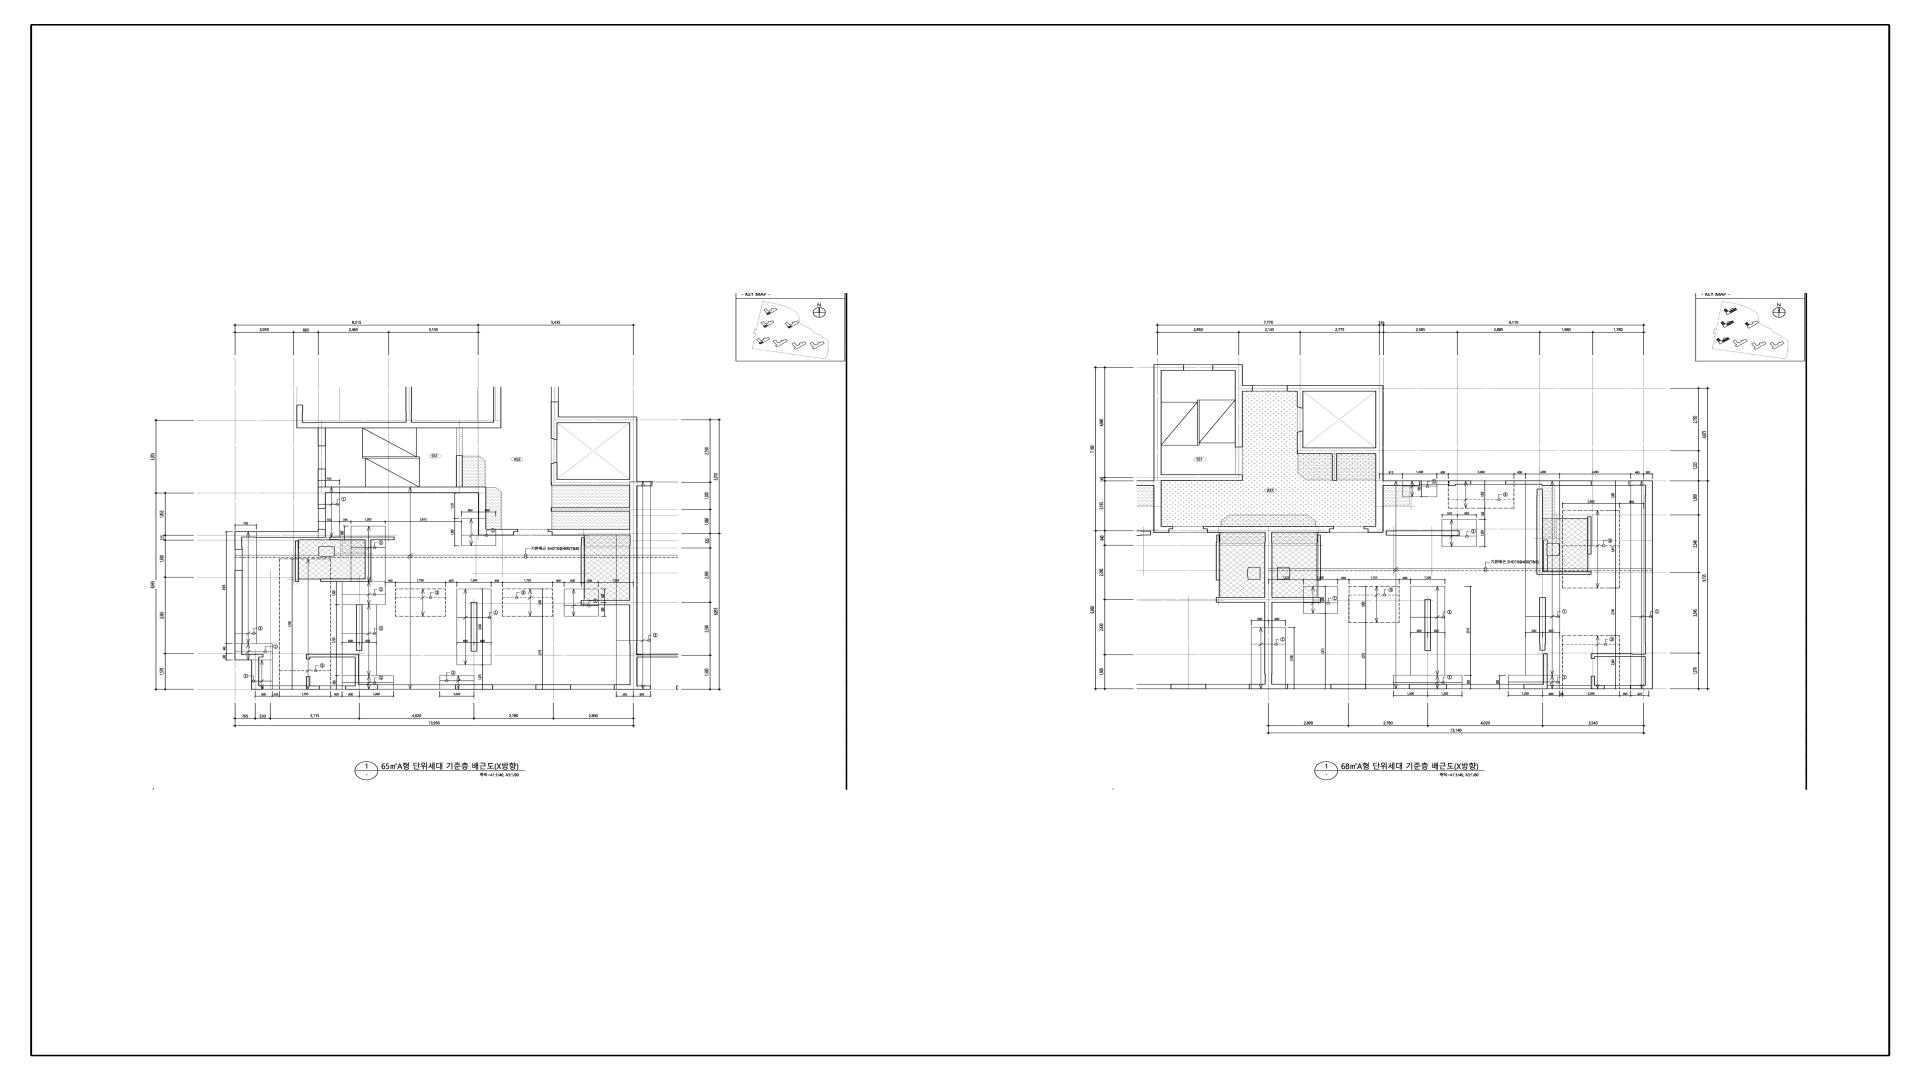wall: (629, 486, 638, 684), (1645, 485, 1653, 685), (1154, 364, 1162, 526), (1264, 533, 1272, 684), (1376, 385, 1384, 526), (326, 422, 501, 428), (326, 487, 486, 493), (1203, 526, 1334, 533), (235, 570, 243, 654), (1287, 385, 1376, 392), (1235, 371, 1243, 447), (558, 479, 637, 486), (242, 531, 318, 538), (1537, 489, 1543, 572), (1161, 475, 1243, 481), (548, 529, 629, 535), (1297, 448, 1376, 454), (559, 417, 637, 423), (629, 423, 637, 479), (1505, 481, 1592, 486), (1539, 597, 1546, 651), (1386, 531, 1460, 536), (356, 604, 363, 651), (318, 469, 326, 509), (551, 508, 629, 512), (1425, 599, 1431, 651), (551, 402, 559, 440), (471, 602, 477, 652), (1272, 597, 1321, 603), (493, 386, 501, 422), (478, 493, 486, 529), (365, 540, 371, 582), (581, 600, 629, 605), (478, 529, 518, 535), (455, 684, 493, 690), (456, 455, 463, 487), (1537, 571, 1592, 575), (1212, 364, 1243, 371), (536, 684, 571, 690), (251, 660, 259, 686), (330, 537, 395, 540), (318, 422, 326, 446), (1409, 684, 1447, 689), (1587, 517, 1592, 554), (1317, 535, 1321, 581), (581, 538, 585, 583), (1384, 481, 1420, 486), (1331, 684, 1366, 689), (235, 654, 264, 660), (345, 685, 378, 690), (295, 541, 299, 582), (1162, 364, 1184, 371), (235, 531, 243, 550), (1543, 654, 1548, 684), (1595, 654, 1645, 657), (310, 654, 359, 657), (551, 462, 557, 486), (320, 579, 365, 582), (1332, 454, 1337, 481), (1154, 526, 1173, 533), (1364, 526, 1383, 533), (614, 685, 638, 690), (1524, 684, 1548, 689), (1629, 481, 1653, 486), (1265, 684, 1288, 689), (1449, 481, 1471, 486), (355, 657, 359, 684), (1297, 431, 1303, 448), (1297, 392, 1303, 408), (1630, 685, 1653, 689), (318, 529, 326, 538), (1243, 385, 1253, 392), (306, 686, 320, 690), (1591, 685, 1605, 689), (251, 686, 263, 690), (306, 676, 310, 686), (1591, 676, 1595, 685), (306, 654, 310, 659), (1591, 654, 1595, 659)
